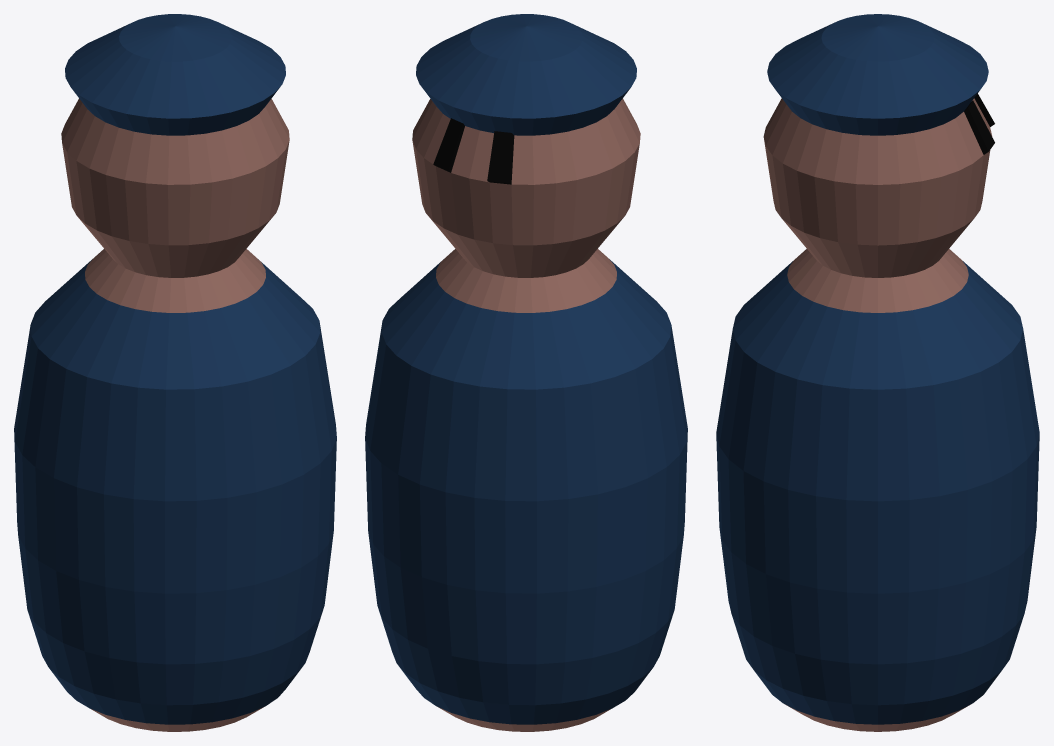
The model's file is human_fbx.fbx.
3 renders of one model, left to right at view 1: azimuth 30°, elevation 25°; view 2: azimuth 150°, elevation 25°; view 3: azimuth 270°, elevation 25°, orthographic.
Visible parts, largest first — view 1: Sphere; view 2: Sphere; view 3: Sphere.
Part boxes in pixels (box(x1,y1,x2,y2)): Sphere: box(14, 14, 336, 731); Sphere: box(365, 14, 687, 731); Sphere: box(716, 14, 1039, 731).
Bounding box in the file's own units: 64 × 150 × 64.
